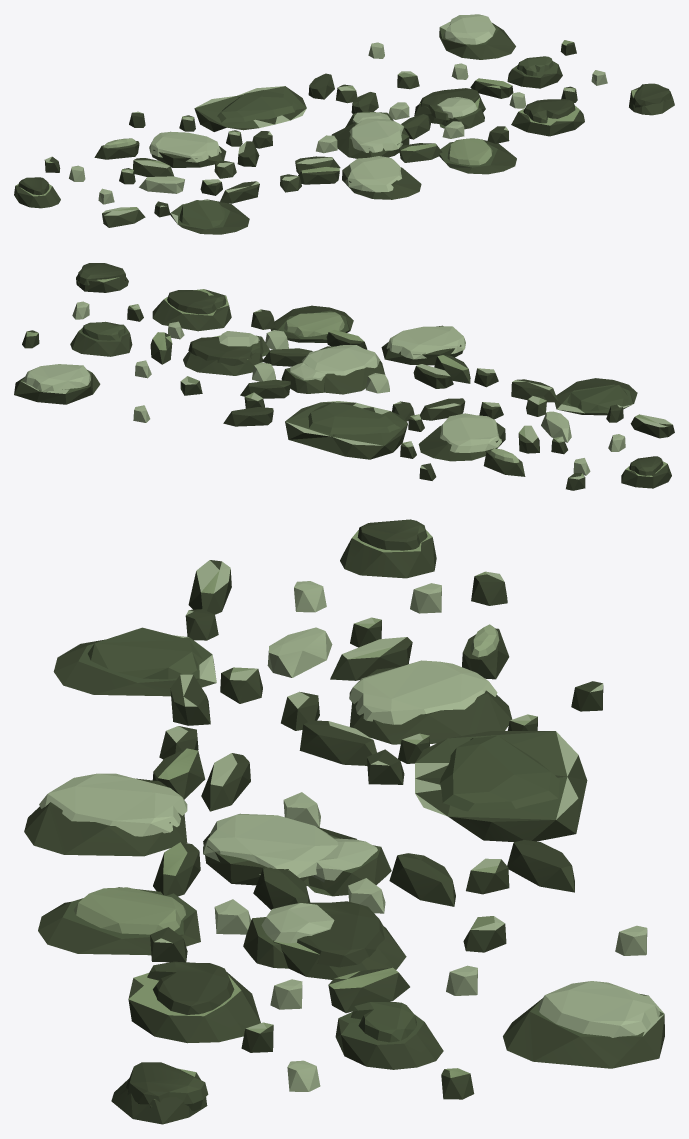
Rendered from EA_Swamp_Stones_Moss_04b.glb.
3 renders of one model, top to bottom at view 1: azimuth 30°, elevation 25°; view 2: azimuth 150°, elevation 25°; view 3: azimuth 270°, elevation 25°, orthographic. The views are drawn at different scales.
Visible parts, largest first — view 1: EA_Swamp_Stones_Moss_04b; view 2: EA_Swamp_Stones_Moss_04b; view 3: EA_Swamp_Stones_Moss_04b.
Boxes of the visible parts, x1,y1,x2,y2 form: EA_Swamp_Stones_Moss_04b: [14, 14, 674, 234]; EA_Swamp_Stones_Moss_04b: [14, 263, 674, 490]; EA_Swamp_Stones_Moss_04b: [24, 519, 664, 1124].
Bounding box in the file's own units: 8.77 × 0.2524 × 4.07.
Materials: 1 (1 with a texture image).
